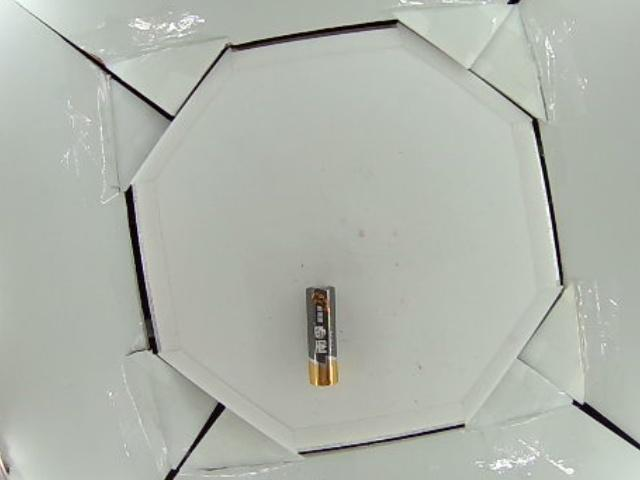Battery: (307, 285, 337, 391)
